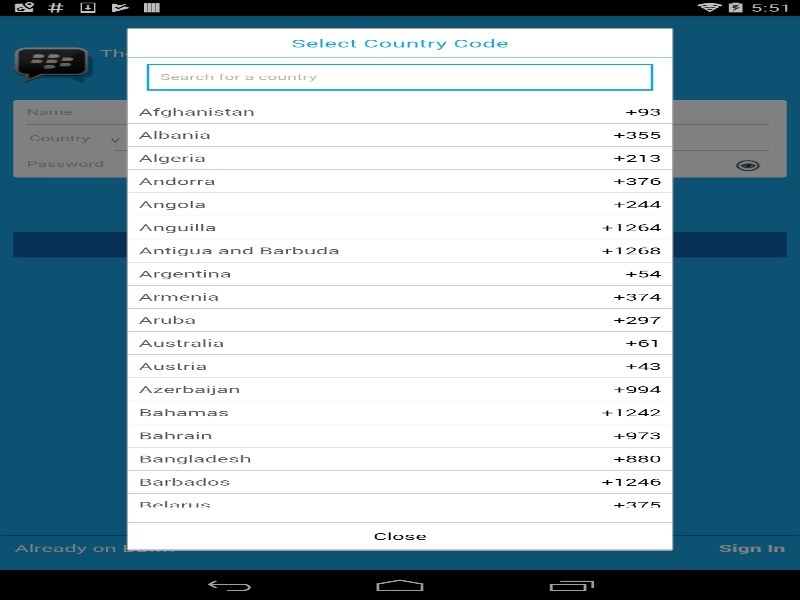Button: (13, 231, 786, 258)
Input: (26, 100, 769, 125), (26, 151, 769, 176), (142, 126, 640, 150), (26, 126, 114, 150)
